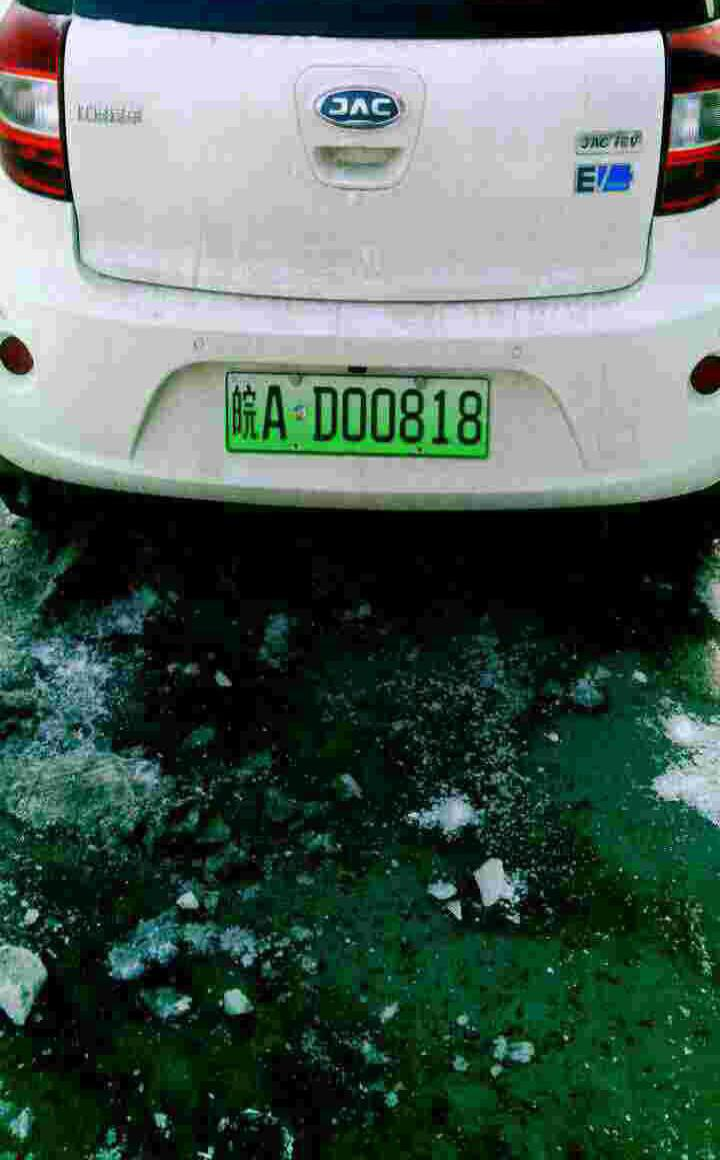car: (227, 358, 506, 478)
